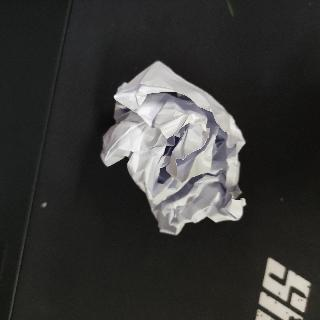8/可回收垃圾/纸: (99, 59, 248, 237)
